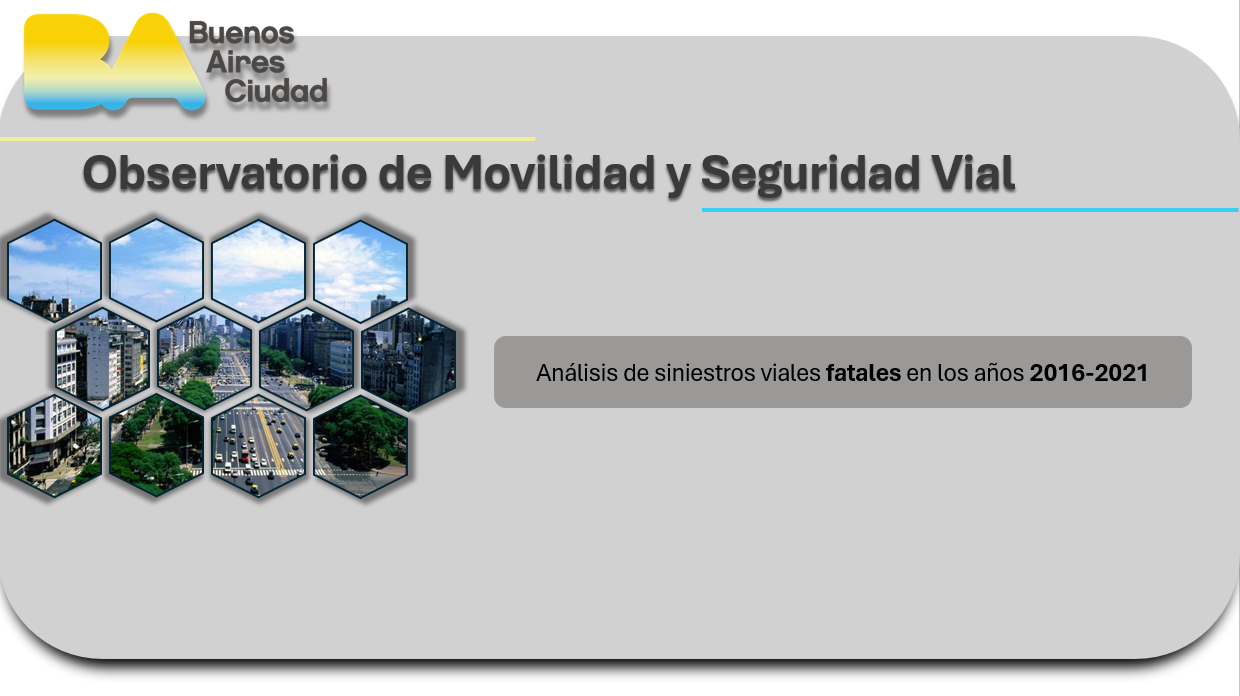

This screenshot's page, from the dashboard's own definition file:
{"tool":"powerbi","page":{"name":"Portada","canvas":[1280,720],"ordinal":0},"visuals":[{"type":"actionButton","box":[640.1,359.5,363.4,73.7],"z":1000},{"type":"actionButton","box":[510.8,310.2,222.2,73.2],"z":1500},{"type":"actionButton","box":[760.4,412.5,363.4,73.7],"z":2000},{"type":"actionButton","box":[902.8,466.3,363.8,74.2],"z":3000},{"type":"textbox","title":"Fuente : Página oficial del Observatorio de Movilidad y Seguridad Vial de la Ciudad Autónoma de Buenos Aires. Datos de siniestros viales fatales (2016-2021) y víctimas.","box":[61,654.4,1157,52.8],"z":4000},{"type":"actionButton","box":[799.3,569,285.9,73.2],"z":5000},{"type":"actionButton","box":[448.4,516.2,406.4,73.2],"z":6000}]}

Visuals, with their boxes in screenshot pixels (x1, y1, x2, y2), scaled from the page's 1280x720 canvas onto the 1240x696 screenshot:
actionButton: select_region(620, 348, 972, 419)
actionButton: select_region(495, 300, 710, 371)
actionButton: select_region(737, 399, 1089, 470)
actionButton: select_region(875, 451, 1227, 522)
"Fuente : Página oficial del Observatorio de Movilidad y Seguridad Vial de la Ciudad Autónoma de Buenos Aires. Datos de siniestros viales fatales (2016-2021) y víctimas." textbox: select_region(59, 633, 1180, 684)
actionButton: select_region(774, 550, 1051, 621)
actionButton: select_region(434, 499, 828, 570)
